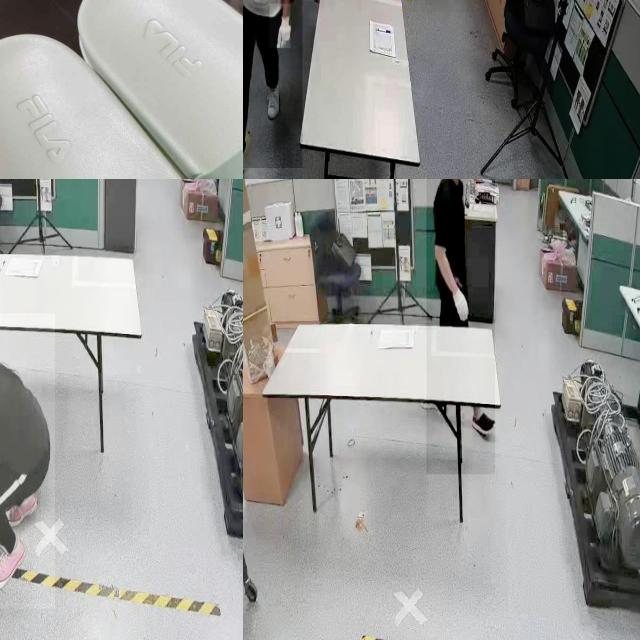Sandals: (0, 0, 243, 179)
face_mask: (452, 179, 478, 196)
hand_glove: (269, 3, 291, 49), (452, 285, 472, 330)
person: (426, 179, 495, 475), (0, 313, 55, 609), (243, 0, 303, 168)
shoes: (0, 533, 25, 588), (262, 70, 284, 124), (470, 405, 498, 440)
